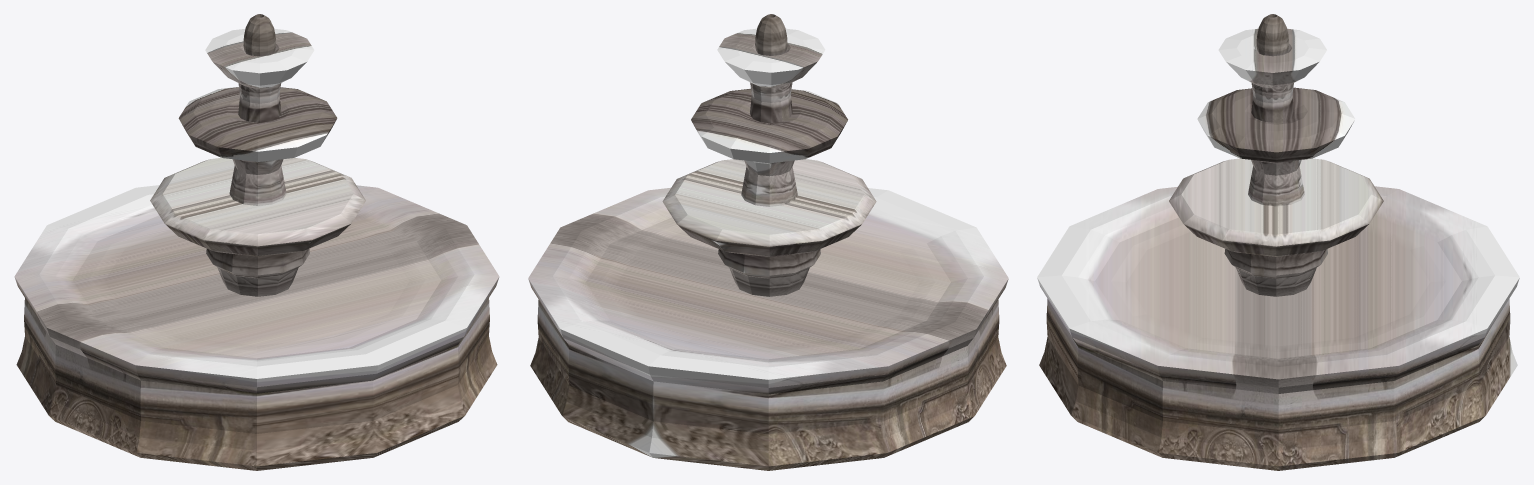
The model's file is white fountain.fbx.
3 renders of one model, left to right at view 1: azimuth 30°, elevation 25°; view 2: azimuth 150°, elevation 25°; view 3: azimuth 270°, elevation 25°, orthographic.
Parts seen in each view (by area): view 1: Polygon; view 2: Polygon; view 3: Polygon.
Part boxes in pixels (x1,y1,x2,y2): Polygon: (14, 14, 499, 470); Polygon: (528, 14, 1008, 470); Polygon: (1037, 14, 1519, 470).
Bounding box in the file's own units: 5.52 × 4.75 × 5.52.
Materials: 1 (1 with a texture image).
